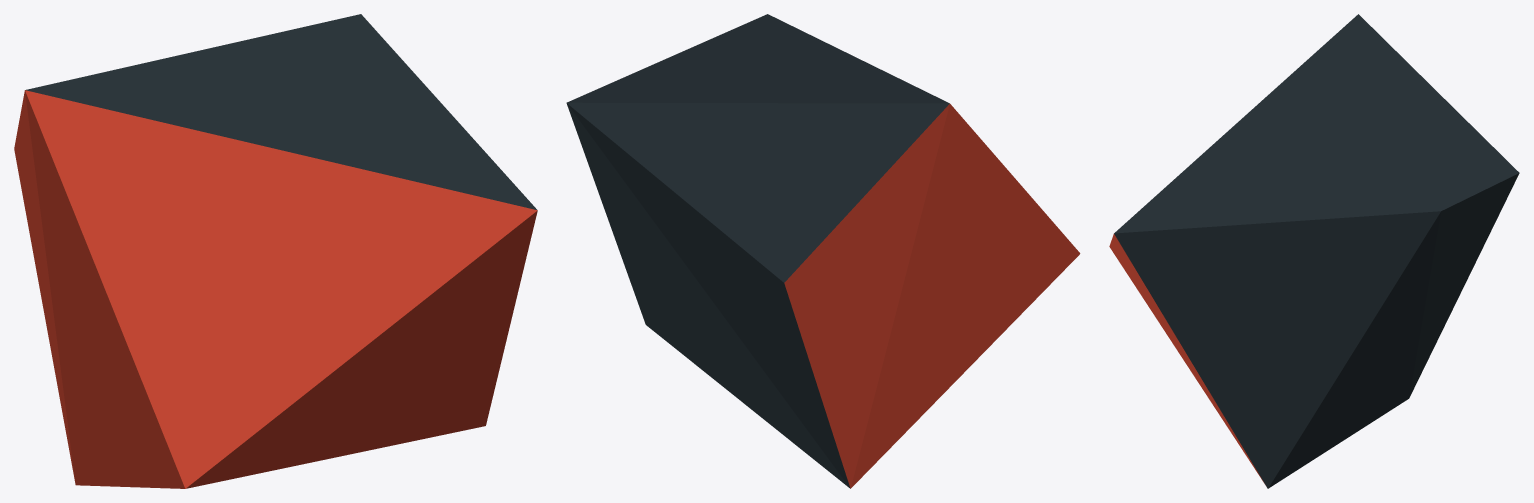
The model's file is Broken_Planet_Rings_01_Asteroid.fbx.
3 renders of one model, left to right at view 1: azimuth 30°, elevation 25°; view 2: azimuth 150°, elevation 25°; view 3: azimuth 270°, elevation 25°, orthographic. The views are drawn at different scales.
Parts seen in each view (by area): view 1: Broken_Planet_Rings_01_Asteroid; view 2: Broken_Planet_Rings_01_Asteroid; view 3: Broken_Planet_Rings_01_Asteroid.
Part boxes in pixels (box(x1,y1,x2,y2)): Broken_Planet_Rings_01_Asteroid: box(14, 14, 537, 488); Broken_Planet_Rings_01_Asteroid: box(566, 14, 1080, 488); Broken_Planet_Rings_01_Asteroid: box(1109, 14, 1519, 488).
Size of the model in its own units: 612 by 633 by 668.
